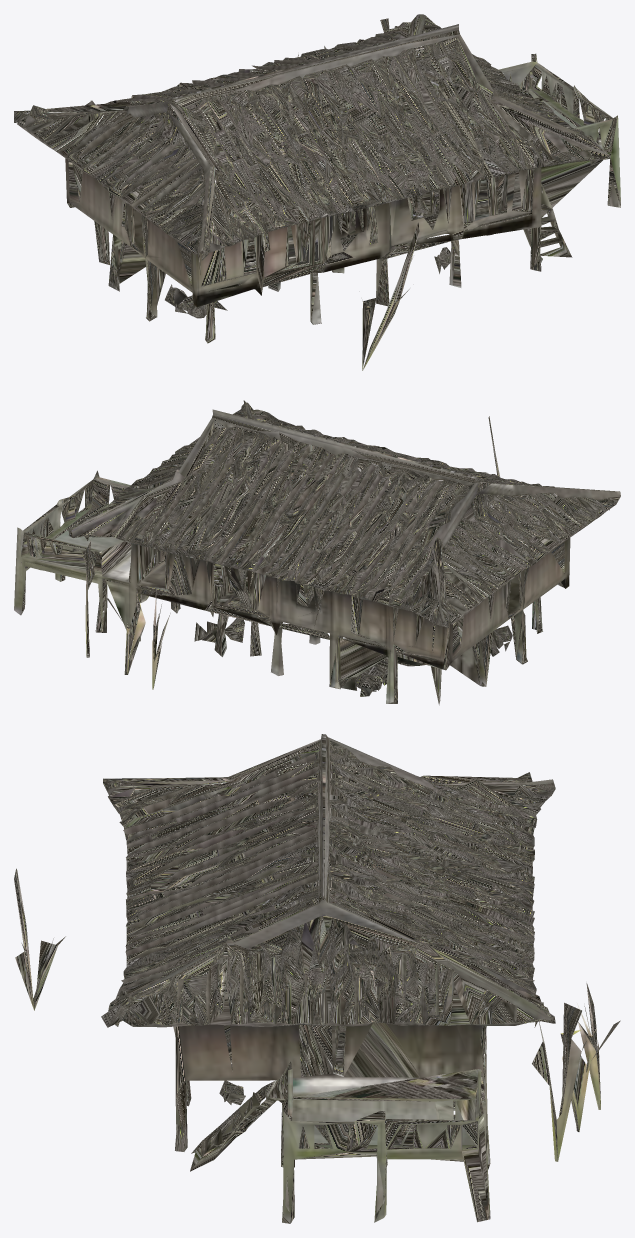
Rendered from bq_stilt.lod1.glb.
The picture shows the model from 3 angles, top to bottom: view 1: azimuth 30°, elevation 25°; view 2: azimuth 150°, elevation 25°; view 3: azimuth 270°, elevation 25°; orthographic projection. The views are drawn at different scales.
Parts seen in each view (by area): view 1: mesh_node; view 2: mesh_node; view 3: mesh_node.
Boxes of the visible parts, box(x1,y1,x2,y2) form: mesh_node: box(14, 14, 620, 370); mesh_node: box(14, 400, 620, 705); mesh_node: box(14, 734, 620, 1223).
Size of the model in its own units: 1.89 by 0.7488 by 1.68.
1 material, 1 textured.
